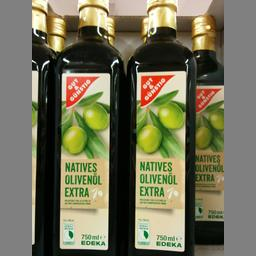oil: (49, 0, 122, 255), (126, 0, 196, 255)
